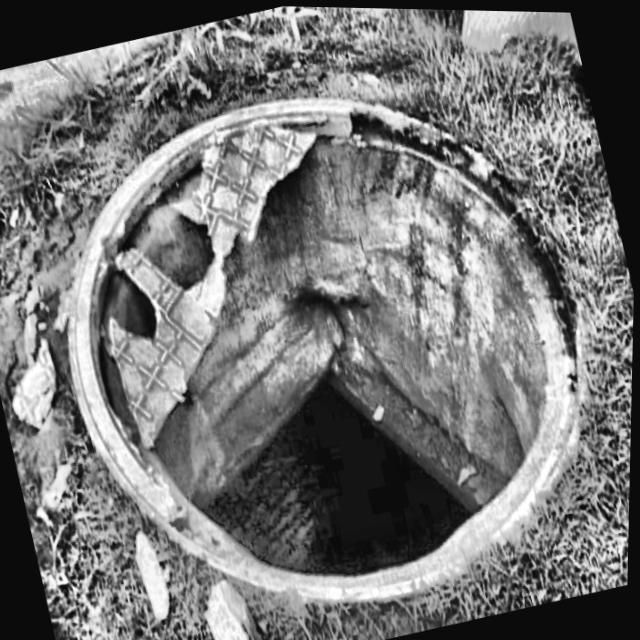open_manhole: (69, 98, 581, 599)
